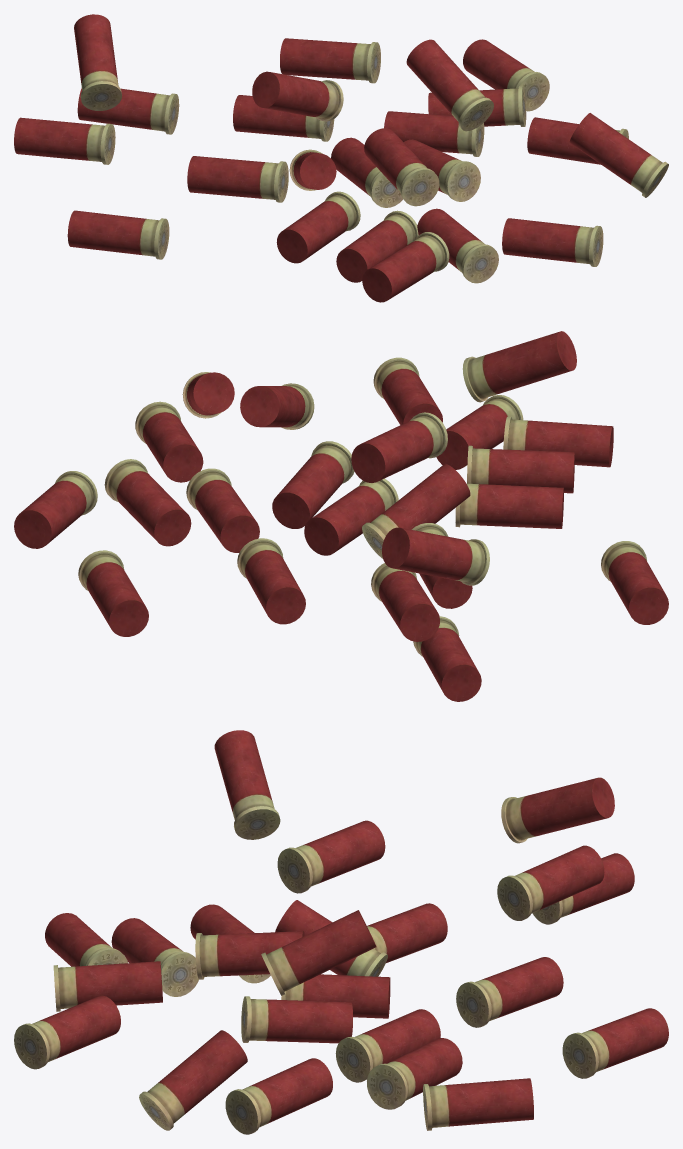
Rendered from item-shotgunShell.glb.
The picture shows the model from 3 angles, top to bottom: view 1: azimuth 30°, elevation 25°; view 2: azimuth 150°, elevation 25°; view 3: azimuth 270°, elevation 25°; orthographic projection. The views are drawn at different scales.
Visible parts, largest first — view 1: Shell.015, Shell.007, Shell.009, Shell.013, Shell.006, Shell.011, Shell.005, Shell.016, Shell.020, Shell.018, Shell.019, Shell.001 (+11 smaller); view 2: Shell.018, Shell.016, Shell.019, Shell.001, Shell.022, Shell.017, Shell, Shell.021, Shell.020, Shell.004, Shell.002, Shell.006 (+11 smaller); view 3: Shell.005, Shell.016, Shell.002, Shell, Shell.008, Shell.011, Shell.018, Shell.007, Shell.014, Shell.009, Shell.012, Shell.006 (+11 smaller).
Part boxes in pixels (x1=…): Shell.015: x1=187, y1=156, x2=288, y2=202; Shell.007: x1=67, y1=210, x2=169, y2=259; Shell.009: x1=502, y1=218, x2=603, y2=266; Shell.013: x1=14, y1=117, x2=115, y2=164; Shell.006: x1=280, y1=38, x2=380, y2=83; Shell.011: x1=406, y1=39, x2=493, y2=131; Shell.005: x1=569, y1=113, x2=668, y2=197; Shell.016: x1=74, y1=14, x2=121, y2=110; Shell.020: x1=362, y1=232, x2=449, y2=302; Shell.018: x1=252, y1=71, x2=343, y2=121; Shell.019: x1=276, y1=191, x2=360, y2=263; Shell.001: x1=364, y1=128, x2=439, y2=206; Shell.018: x1=462, y1=331, x2=576, y2=402; Shell.016: x1=382, y1=527, x2=489, y2=585; Shell.019: x1=455, y1=483, x2=563, y2=528; Shell.001: x1=351, y1=412, x2=447, y2=482; Shell.022: x1=104, y1=459, x2=191, y2=546; Shell.017: x1=467, y1=445, x2=574, y2=493; Shell: x1=272, y1=441, x2=354, y2=528; Shell.021: x1=362, y1=464, x2=470, y2=558; Shell.020: x1=503, y1=416, x2=613, y2=467; Shell.004: x1=304, y1=478, x2=398, y2=555; Shell.002: x1=14, y1=471, x2=97, y2=548; Shell.006: x1=78, y1=550, x2=148, y2=636; Shell.005: x1=139, y1=1030, x2=247, y2=1130; Shell.016: x1=501, y1=777, x2=614, y2=843; Shell.002: x1=423, y1=1078, x2=533, y2=1130; Shell: x1=241, y1=996, x2=352, y2=1043; Shell.008: x1=225, y1=1058, x2=332, y2=1134; Shell.011: x1=261, y1=910, x2=376, y2=995; Shell.018: x1=214, y1=730, x2=280, y2=839; Shell.007: x1=277, y1=820, x2=385, y2=893; Shell.014: x1=497, y1=845, x2=604, y2=920; Shell.009: x1=14, y1=995, x2=120, y2=1069; Shell.012: x1=456, y1=957, x2=563, y2=1027; Shell.006: x1=562, y1=1008, x2=668, y2=1078.
Bounding box in the file's own units: 0.2991 × 0.1015 × 0.2894.
1 material, 1 textured.
